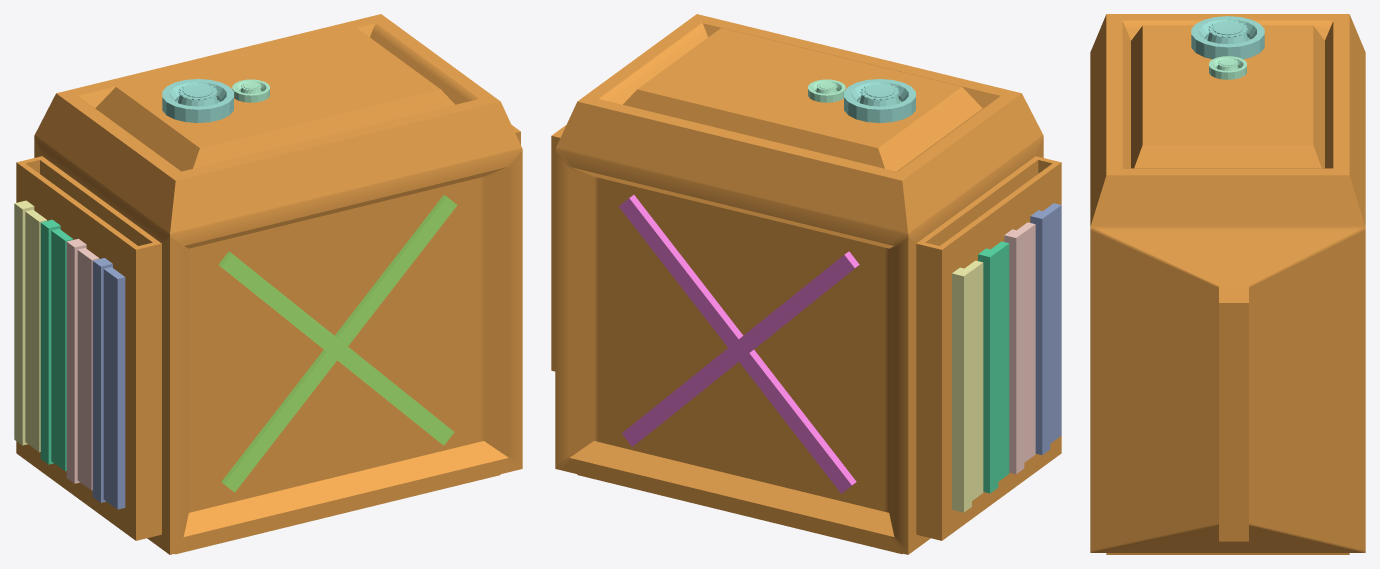
The picture shows the model from 3 angles, left to right: view 1: azimuth 30°, elevation 25°; view 2: azimuth 150°, elevation 25°; view 3: azimuth 270°, elevation 25°; orthographic projection.
Visible parts, largest first — view 1: Box002__0, split_parent_1, Box002__0.101, Box002__0.079, Box002__0.090, Box002__0.068, Box002__0.066, Box002__0.067; view 2: Box002__0, split_parent_2, Box002__0.068, Box002__0.079, Box002__0.090, Box002__0.101, Box002__0.066, Box002__0.067; view 3: Box002__0, Box002__0.066, Box002__0.067.
Part boxes in pixels (x1,y1,x2,y2): Box002__0: [16, 14, 522, 554]; split_parent_1: [218, 195, 457, 492]; Box002__0.101: [92, 258, 125, 509]; Box002__0.079: [40, 219, 73, 471]; Box002__0.090: [66, 238, 99, 490]; Box002__0.068: [14, 200, 46, 452]; Box002__0.066: [162, 79, 233, 122]; Box002__0.067: [232, 79, 269, 102]; Box002__0: [551, 14, 1061, 554]; split_parent_2: [619, 195, 859, 493]; Box002__0.068: [952, 260, 983, 512]; Box002__0.079: [978, 241, 1009, 493]; Box002__0.090: [1004, 222, 1035, 474]; Box002__0.101: [1030, 203, 1061, 455]; Box002__0.066: [844, 79, 915, 122]; Box002__0.067: [808, 79, 845, 102]; Box002__0: [1090, 14, 1365, 554]; Box002__0.066: [1191, 16, 1264, 59]; Box002__0.067: [1209, 56, 1246, 79].
Bounding box in the file's own units: 1 × 0.8455 × 0.5193.
